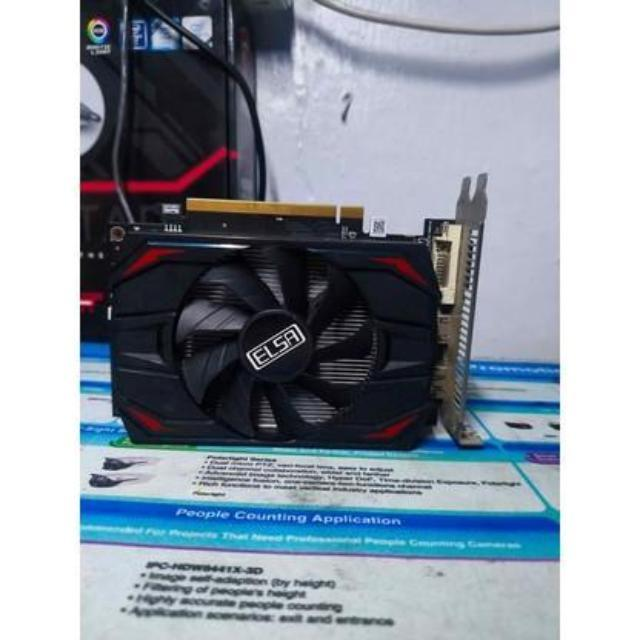GPU: (96, 180, 498, 452)
